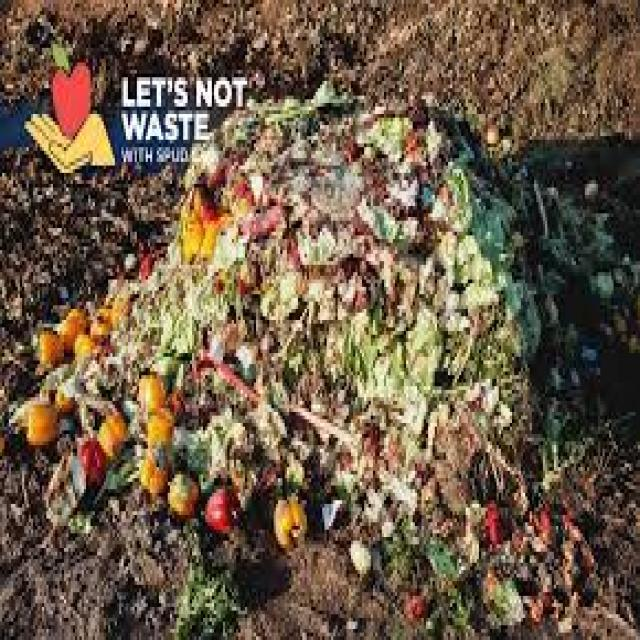food_waste: (74, 288, 575, 512), (255, 126, 482, 498)
